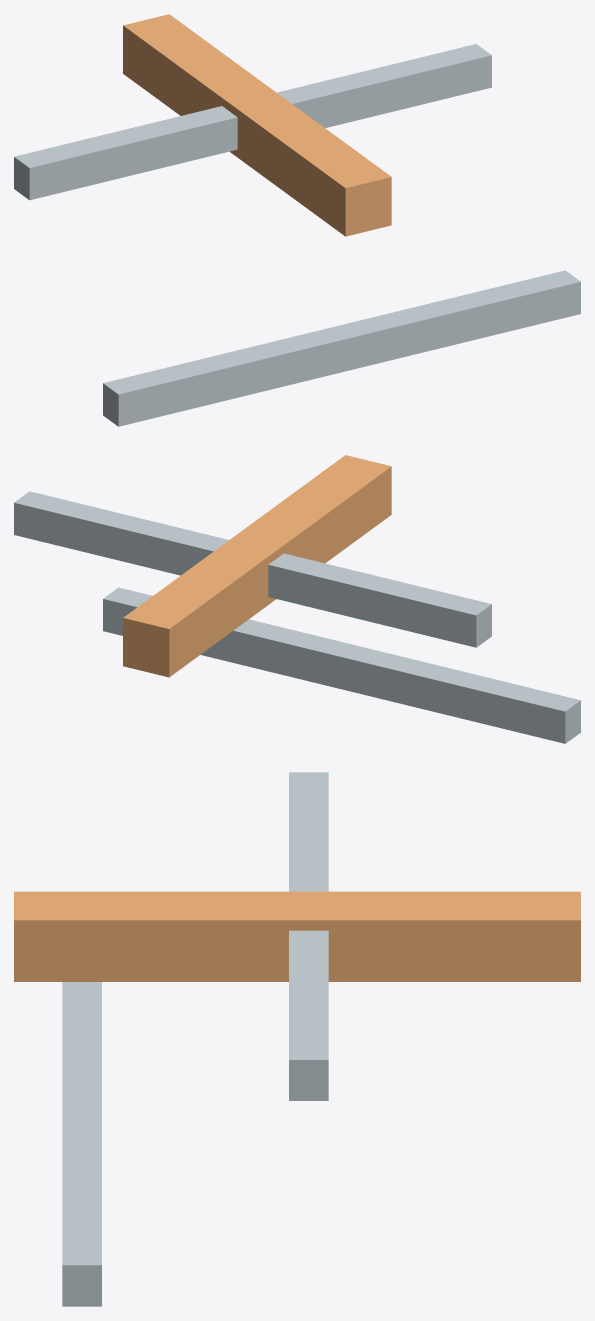
File: coordination-sample.glb
3 renders of one model, top to bottom at view 1: azimuth 30°, elevation 25°; view 2: azimuth 150°, elevation 25°; view 3: azimuth 270°, elevation 25°, orthographic. The views are drawn at different scales.
Visible parts, largest first — view 1: Repeated beam, Service duct, Steel beam; view 2: Service duct, Steel beam, Repeated beam; view 3: Service duct, Repeated beam, Steel beam.
Part boxes in pixels (box(x1,y1,x2,y2)): Repeated beam: box(103, 270, 580, 426); Service duct: box(123, 14, 391, 236); Steel beam: box(14, 44, 491, 200); Service duct: box(123, 455, 391, 677); Steel beam: box(14, 491, 491, 647); Repeated beam: box(103, 587, 580, 743); Service duct: box(14, 891, 580, 981); Repeated beam: box(62, 982, 101, 1306); Steel beam: box(289, 772, 328, 1100).
Size of the model in its own units: 6 by 2.5 by 5.
